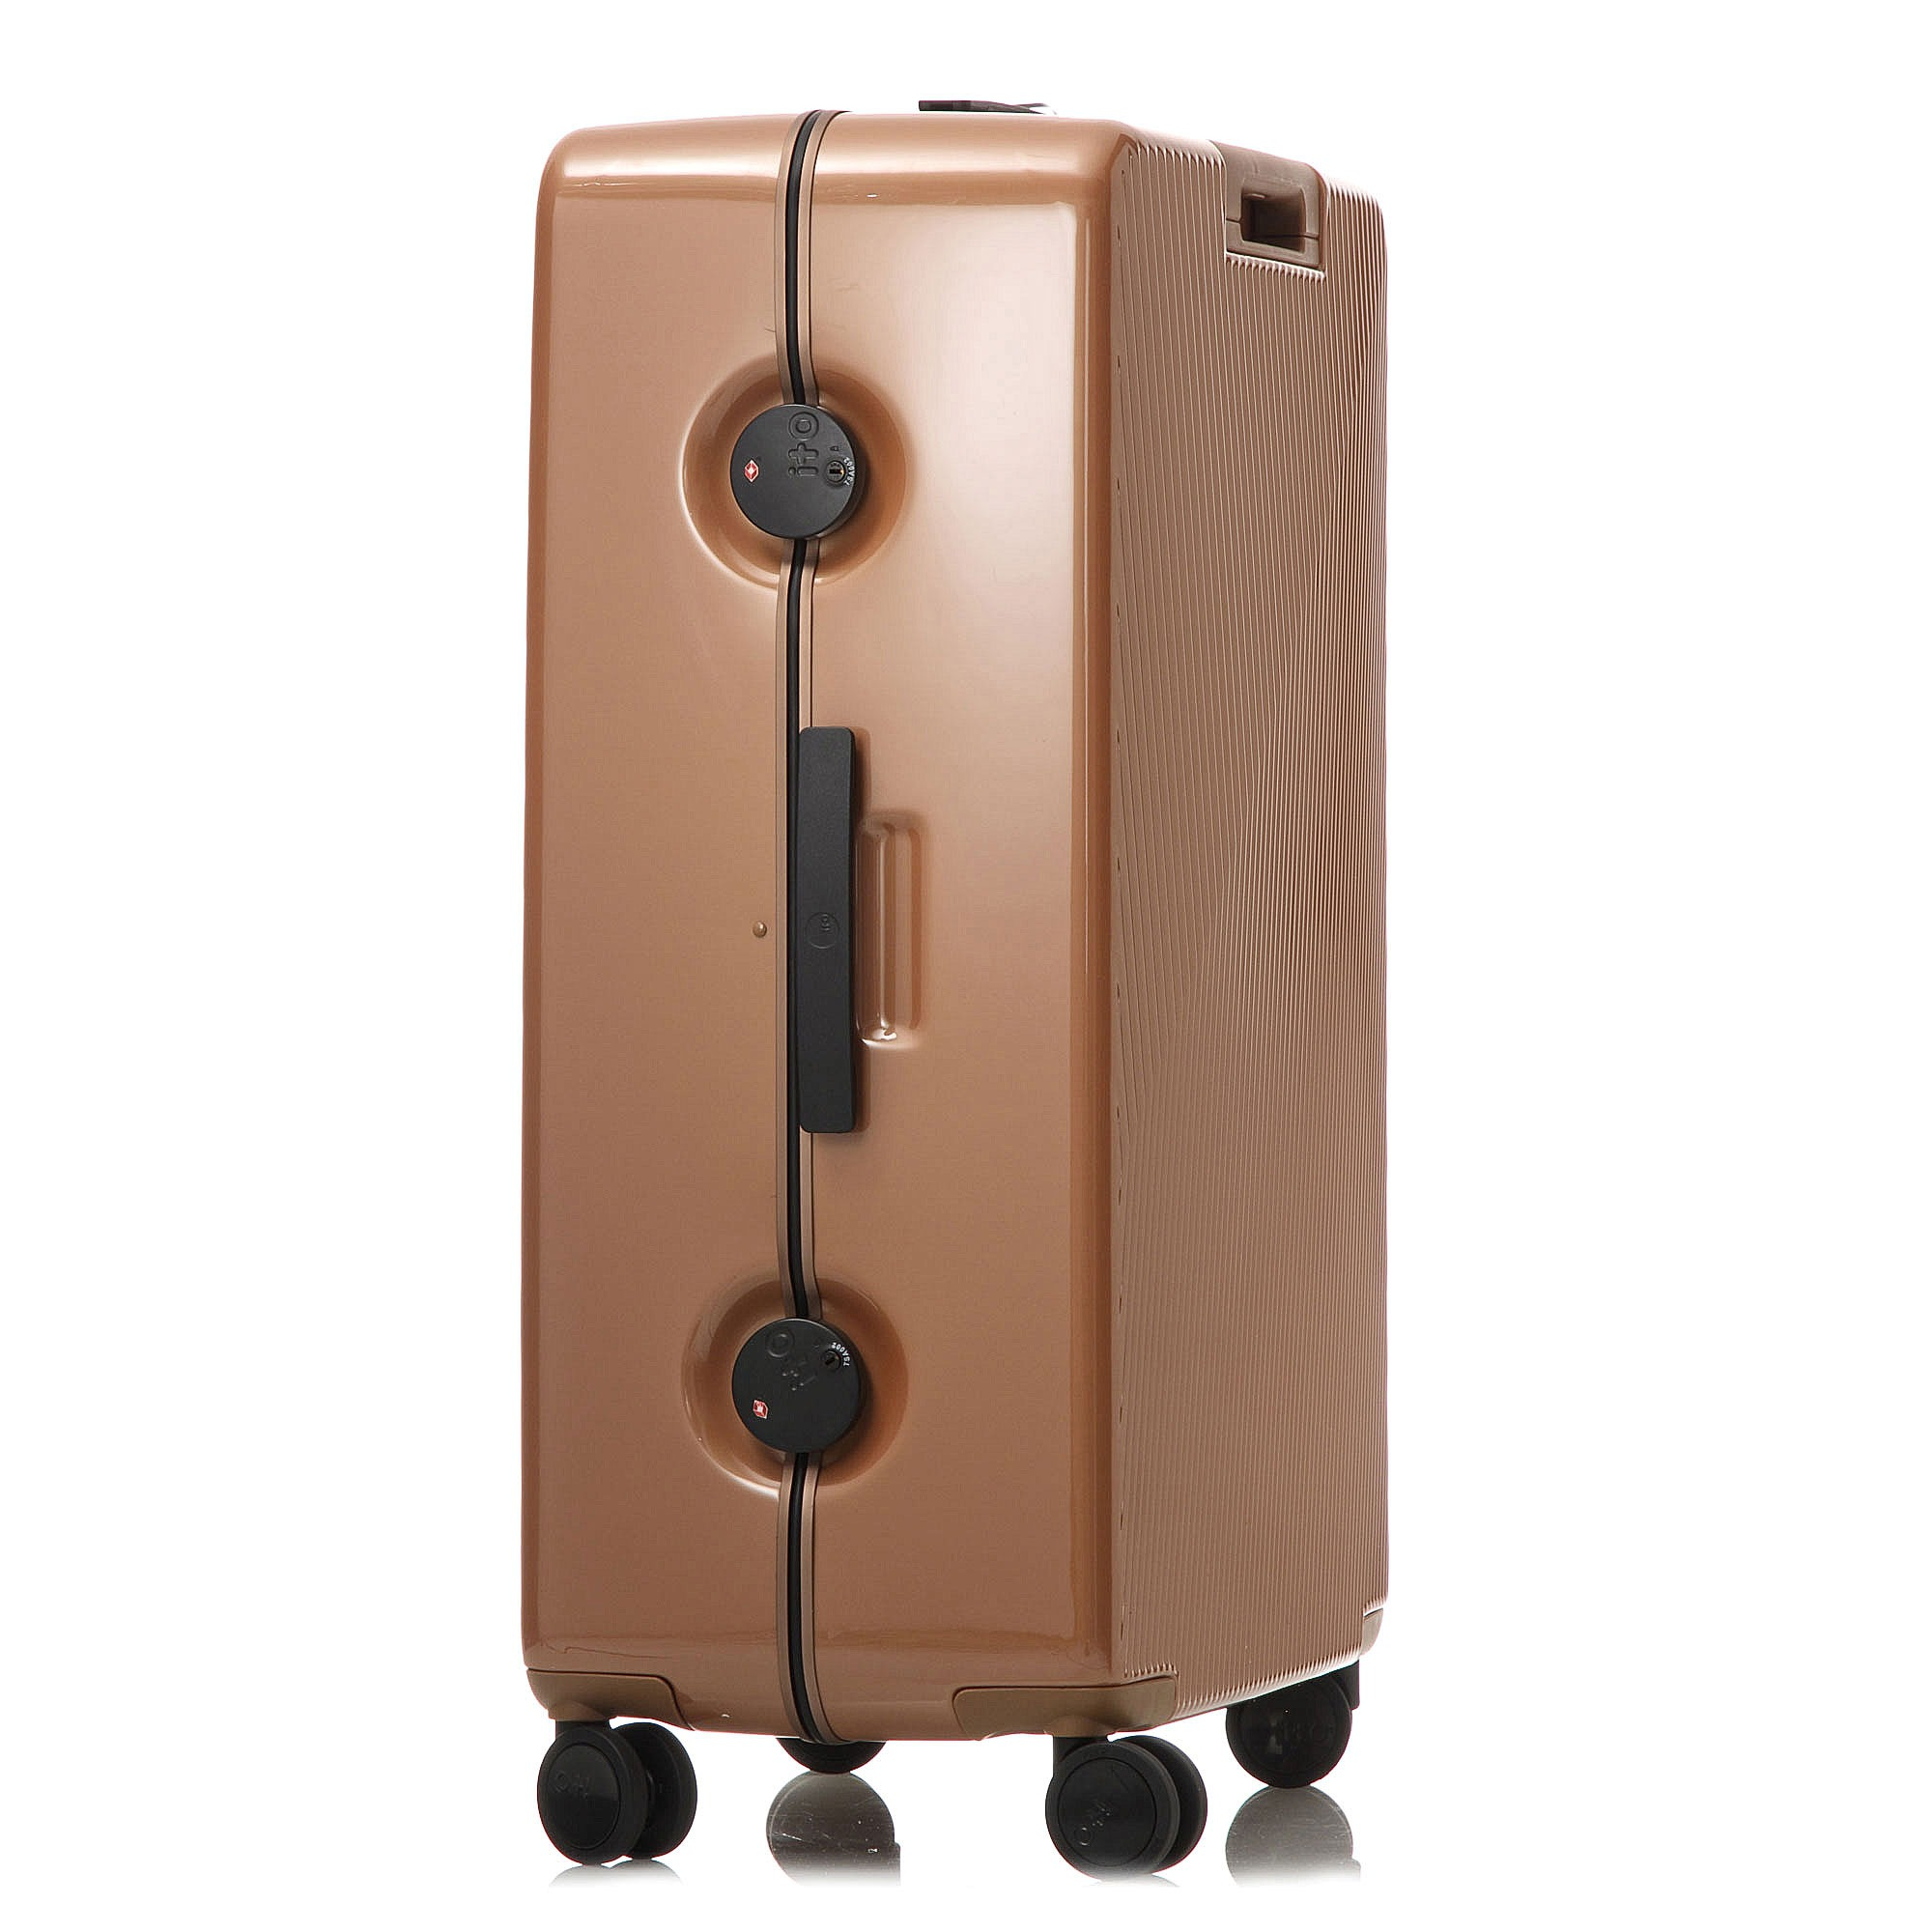suitcase: (520, 92, 1391, 1874)
